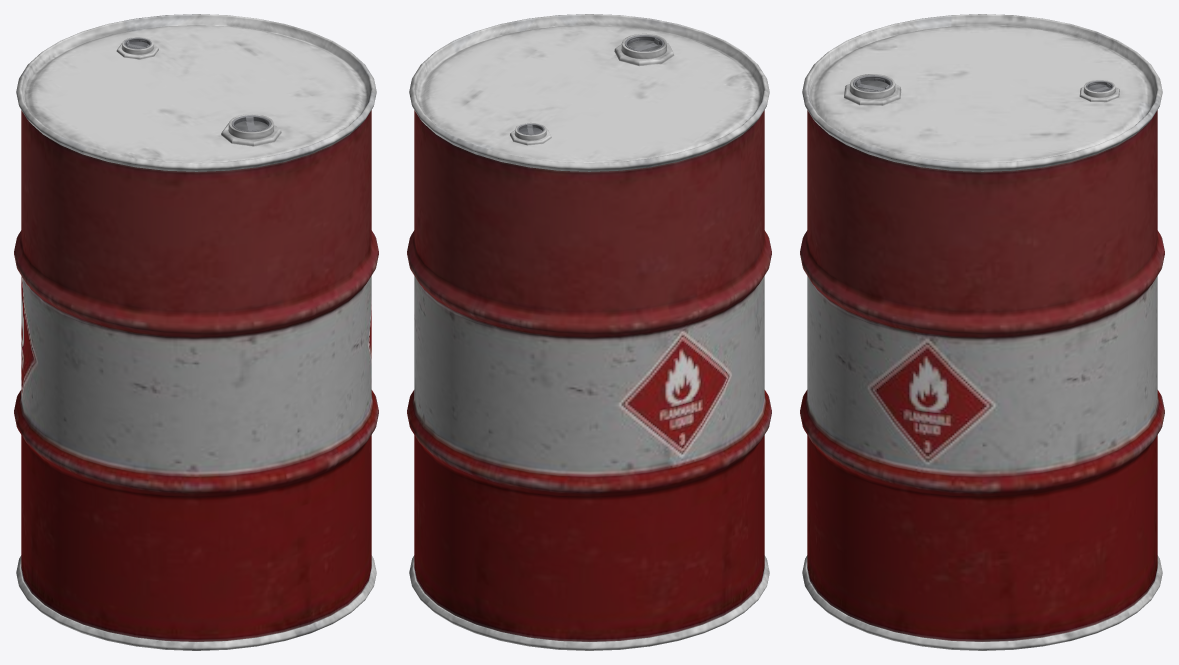
The model's file is drum.glb.
3 renders of one model, left to right at view 1: azimuth 30°, elevation 25°; view 2: azimuth 150°, elevation 25°; view 3: azimuth 270°, elevation 25°, orthographic.
Visible parts, largest first — view 1: Barrel_low; view 2: Barrel_low; view 3: Barrel_low.
Part boxes in pixels (left/top/right/bottom): Barrel_low: left=14, top=14, right=378, bottom=650; Barrel_low: left=407, top=14, right=771, bottom=650; Barrel_low: left=800, top=14, right=1164, bottom=650.
Size of the model in its own units: 48.35 by 72.11 by 48.35.
1 material, 1 textured.
